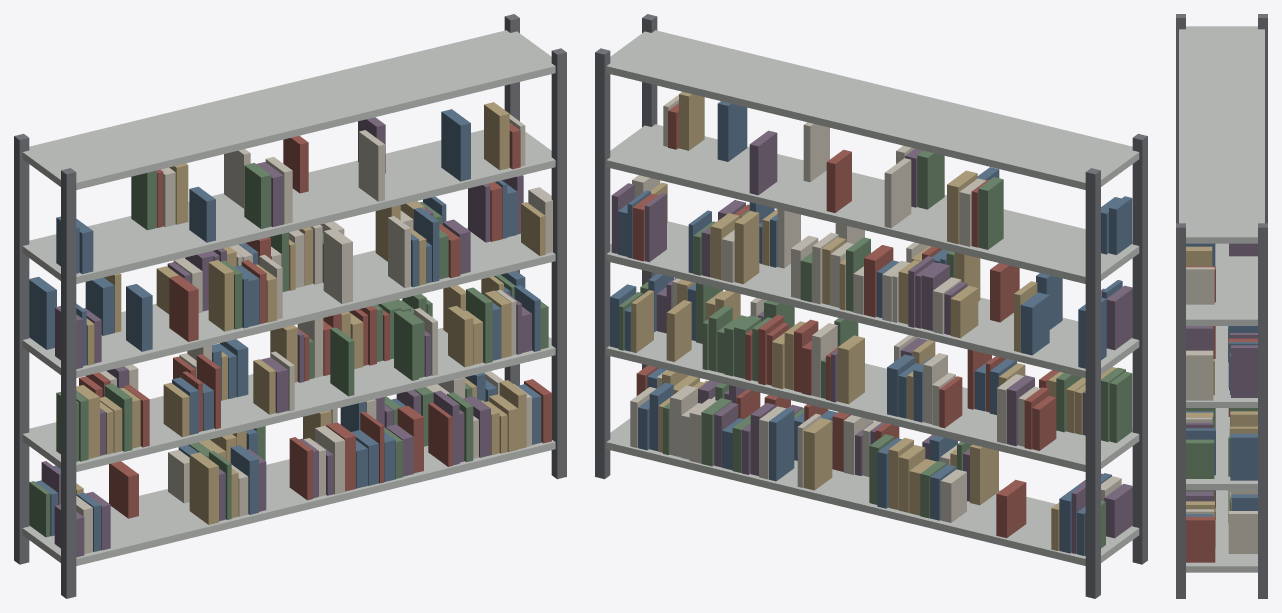
Rendered from mov_55f32a06f9.gltf.
3 views of the same model, side by side, from view 1: azimuth 30°, elevation 25°; view 2: azimuth 150°, elevation 25°; view 3: azimuth 270°, elevation 25° (orthographic). The views are drawn at different scales.
Parts seen in each view (by area): view 1: mov_55f32a06f9; view 2: mov_55f32a06f9; view 3: mov_55f32a06f9.
Boxes of the visible parts, box(x1,y1,x2,y2) form: mov_55f32a06f9: box(14, 14, 566, 598); mov_55f32a06f9: box(595, 14, 1147, 598); mov_55f32a06f9: box(1176, 14, 1267, 598).
Bounding box in the file's own units: 2.59 × 2.1 × 0.47.
